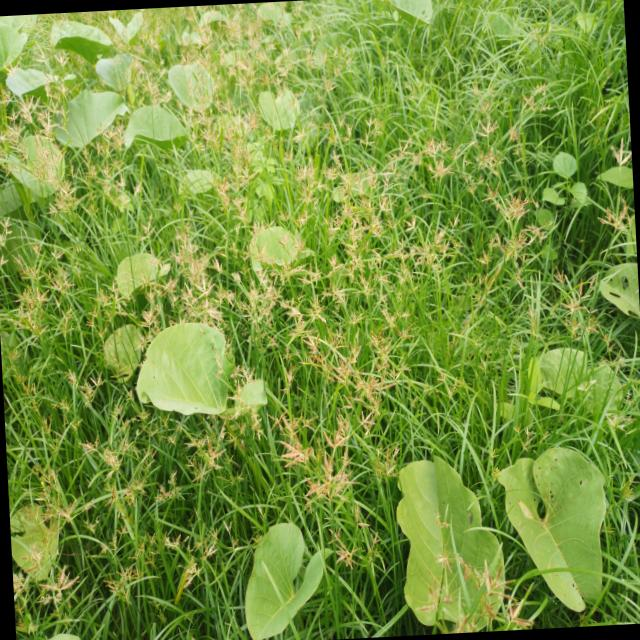cyperus: (0, 80, 77, 217), (196, 93, 266, 227), (442, 554, 540, 630), (278, 421, 356, 506), (304, 324, 396, 396), (327, 164, 393, 253), (482, 172, 539, 264), (404, 211, 469, 275), (83, 118, 130, 203), (549, 271, 603, 343), (12, 239, 50, 335), (340, 253, 398, 315), (470, 113, 524, 178), (165, 528, 219, 592), (112, 532, 160, 602), (28, 467, 80, 531), (187, 421, 233, 484), (180, 36, 229, 92), (236, 268, 282, 326), (422, 129, 464, 192), (181, 251, 217, 321), (292, 160, 328, 224), (128, 56, 170, 110), (77, 432, 134, 469), (36, 563, 79, 611), (367, 435, 406, 486), (324, 524, 364, 572), (11, 542, 43, 600), (593, 195, 636, 238), (276, 226, 307, 284), (101, 478, 148, 516), (46, 240, 76, 297), (138, 275, 164, 338), (605, 388, 639, 434), (512, 420, 550, 460), (380, 306, 420, 342), (432, 370, 469, 408), (27, 42, 71, 73), (281, 296, 309, 344), (263, 410, 316, 434), (187, 4, 220, 42), (524, 77, 554, 118), (232, 398, 262, 439), (68, 367, 104, 401), (598, 333, 624, 379), (354, 392, 382, 434), (171, 227, 198, 269), (154, 468, 183, 506), (226, 54, 255, 92), (462, 270, 494, 303), (388, 136, 413, 178), (272, 43, 298, 83), (483, 445, 507, 487), (470, 78, 497, 115), (51, 395, 78, 432), (0, 216, 15, 277), (248, 30, 276, 62), (18, 374, 40, 414), (511, 248, 531, 290), (522, 305, 544, 343), (86, 306, 109, 342), (276, 363, 298, 398), (362, 111, 384, 146), (608, 136, 632, 168), (362, 526, 382, 564), (390, 358, 412, 392), (172, 100, 196, 131), (58, 302, 80, 334), (322, 280, 349, 306), (307, 294, 327, 328), (138, 210, 158, 244), (232, 362, 254, 392), (298, 263, 322, 288), (3, 348, 21, 377), (338, 117, 354, 149), (162, 273, 180, 301), (217, 282, 236, 308), (222, 20, 241, 45), (318, 73, 338, 95), (326, 253, 344, 276), (476, 250, 494, 268), (109, 280, 123, 302), (84, 200, 102, 217), (348, 308, 363, 328), (51, 12, 67, 30), (152, 250, 166, 270), (131, 181, 146, 199), (68, 158, 78, 182), (96, 288, 109, 306), (216, 253, 225, 270)
